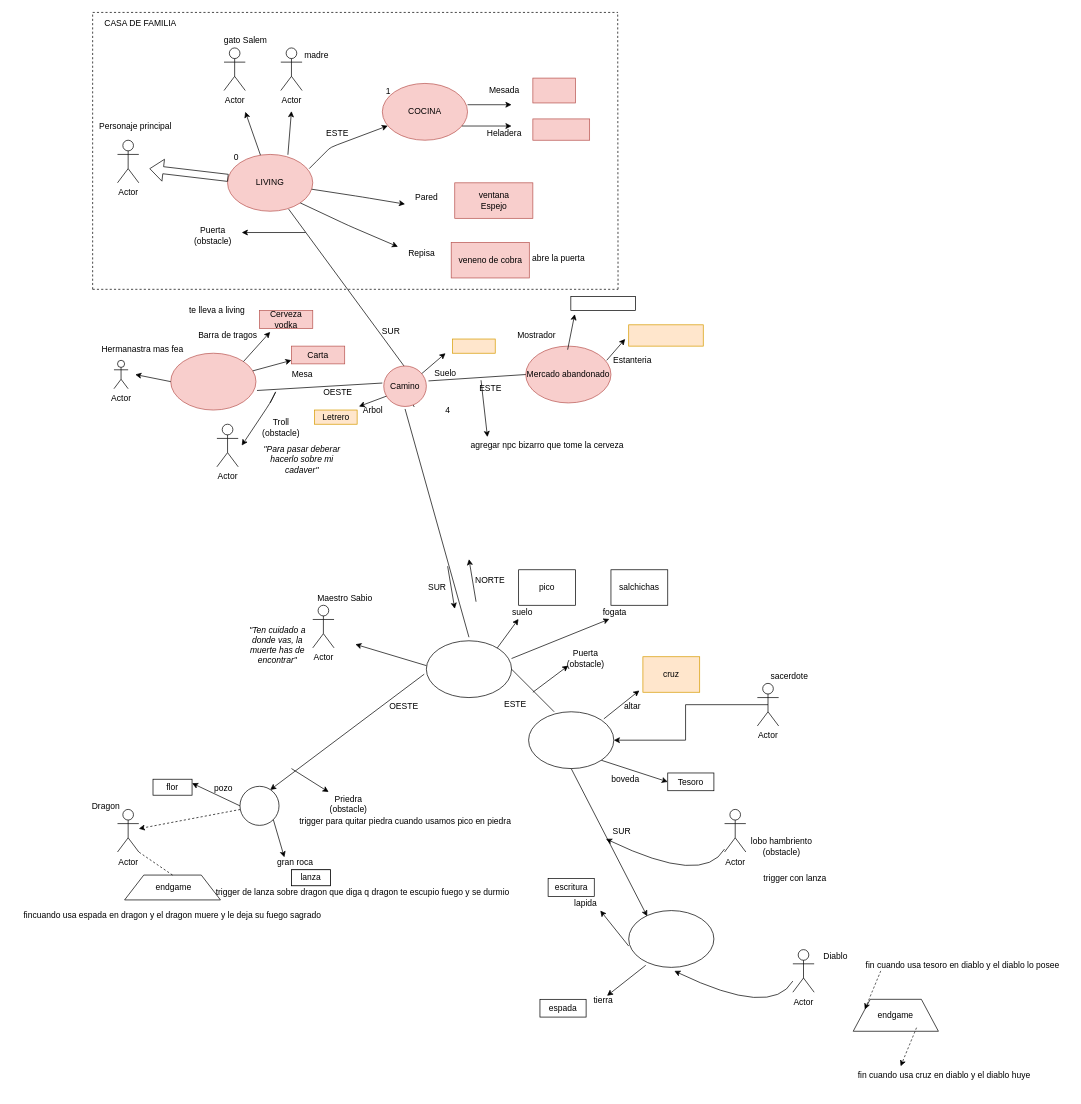
Image size: 1081x1104. Some labels were removed from this diagram. Here are the shapes that lost their labels. From the top down, the centre of each, then its label:
At (553,90): "cuchicllo".
At (561,129): "Sanguche de Atun".
At (602,303): "llave".
At (473,345): "Cadaver".
At (665,335): "manzana podrida".
At (213,381): "Bar".
At (469,669): "Campamento siniestro".
At (571,740): "Templo".
At (259,805): "Cueva".
At (671,938): "tumba".
